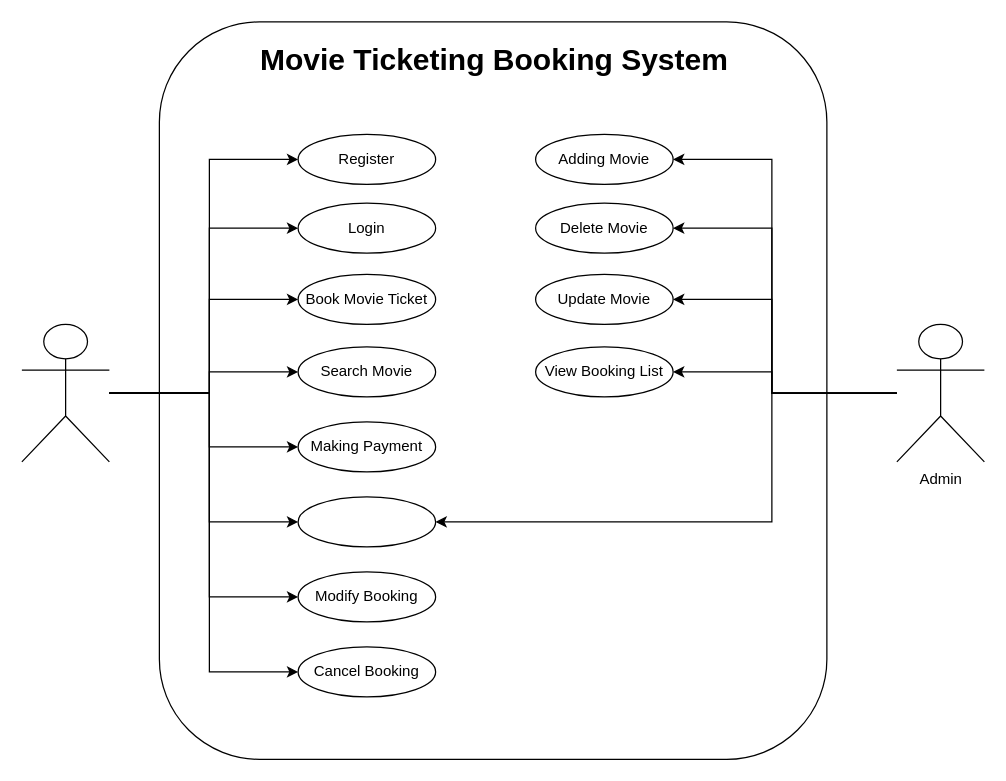
This 1006x781 diagram has some shape labels left out. The shapes that lost their labels are listed below. From the top down, each one's centre as x and y in pixels, then its label:
At point 65,392: "User".
At point 366,521: "View Movie List".
